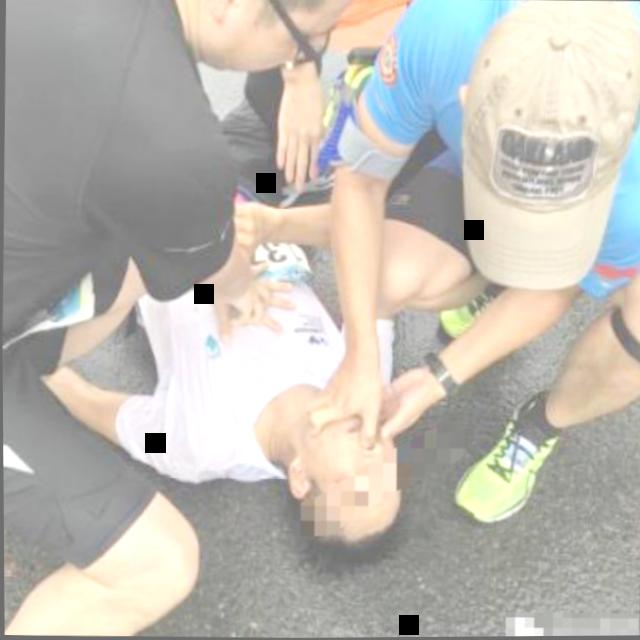Fall-Detected: (57, 157, 437, 572)
